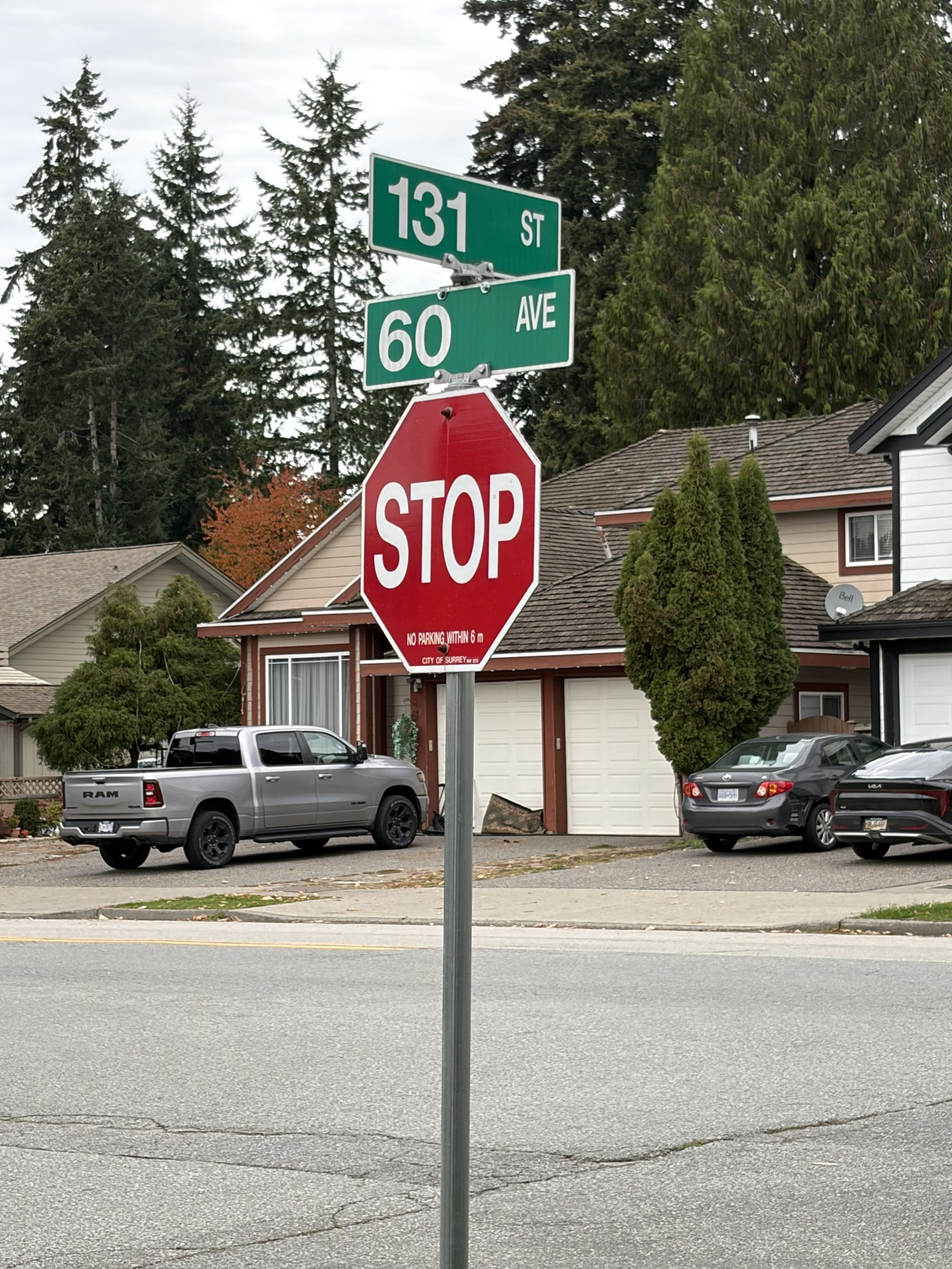stop: (335, 352, 574, 719)
